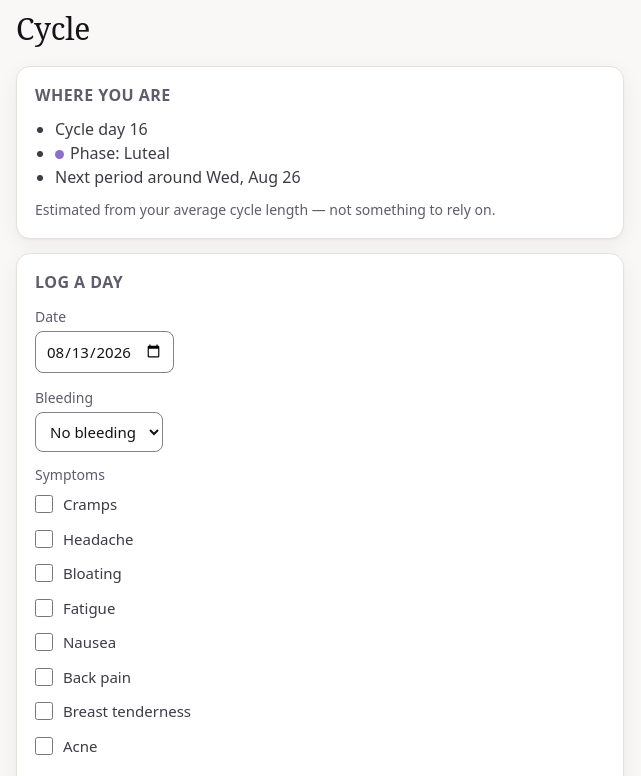
Scenario: Cycle page — logging › only shows a severity control once a symptom is ticked
Click the checkbox labelled "Cramps": point(44, 504) [35,495,53,513]
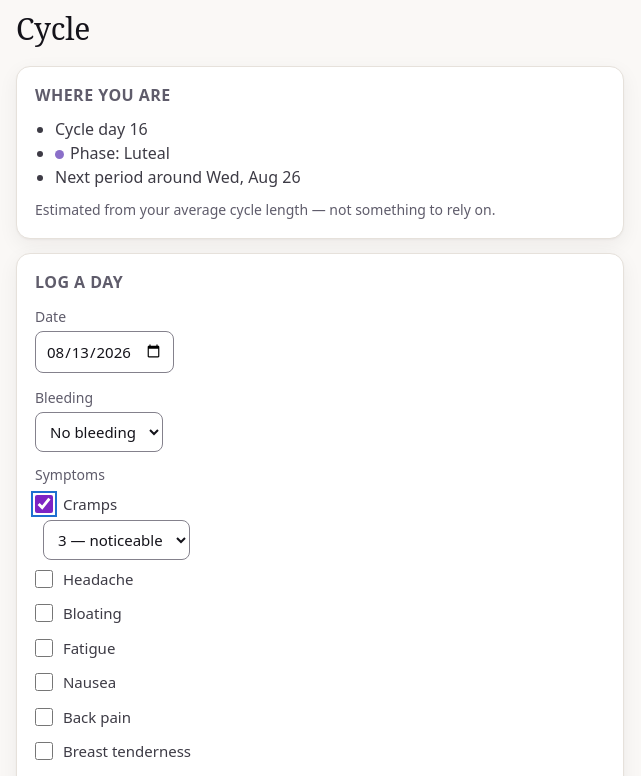
Result: the dropdown named "Cramps severity" is shown at [43,520,190,560]
